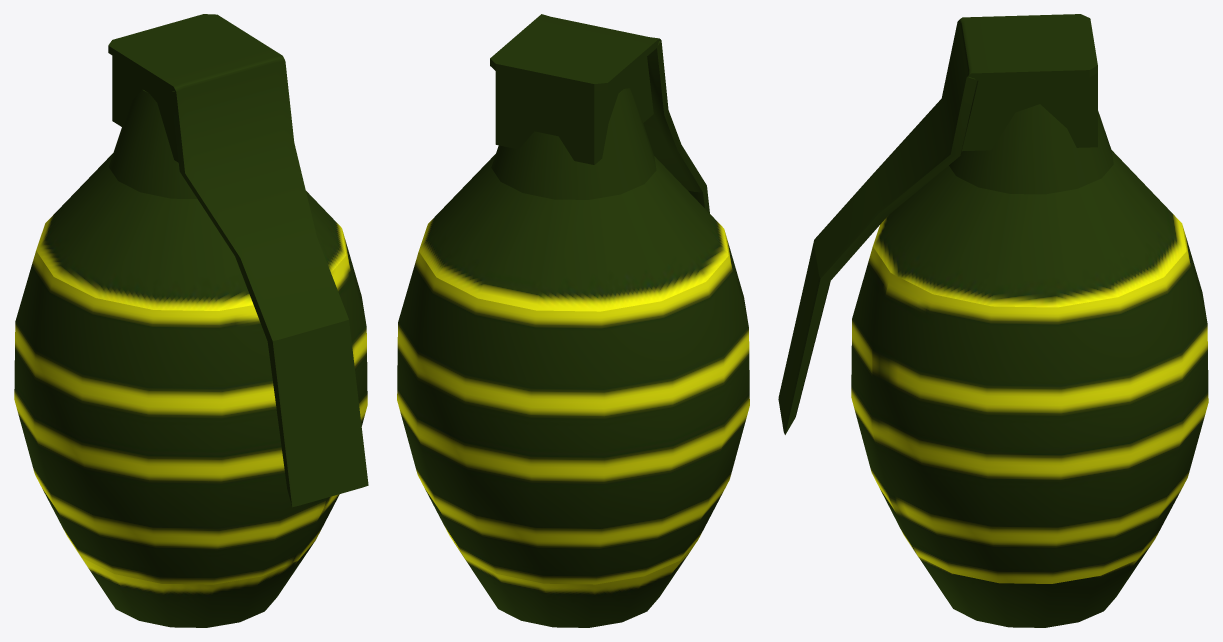
File: grenade.fbx
The picture shows the model from 3 angles, left to right: view 1: azimuth 30°, elevation 25°; view 2: azimuth 150°, elevation 25°; view 3: azimuth 270°, elevation 25°; orthographic projection.
Visible parts, largest first — view 1: grenade_group3_group1_grenade_pCube1; view 2: grenade_group3_group1_grenade_pCube1; view 3: grenade_group3_group1_grenade_pCube1.
Boxes of the visible parts, <box> form: grenade_group3_group1_grenade_pCube1: <box>14,14,368,627</box>; grenade_group3_group1_grenade_pCube1: <box>397,14,749,627</box>; grenade_group3_group1_grenade_pCube1: <box>778,14,1208,627</box>.
Size of the model in its own units: 1.32 by 2.24 by 1.59.
1 material, 1 textured.
